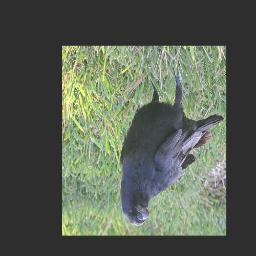Crow: (120, 64, 224, 227)
